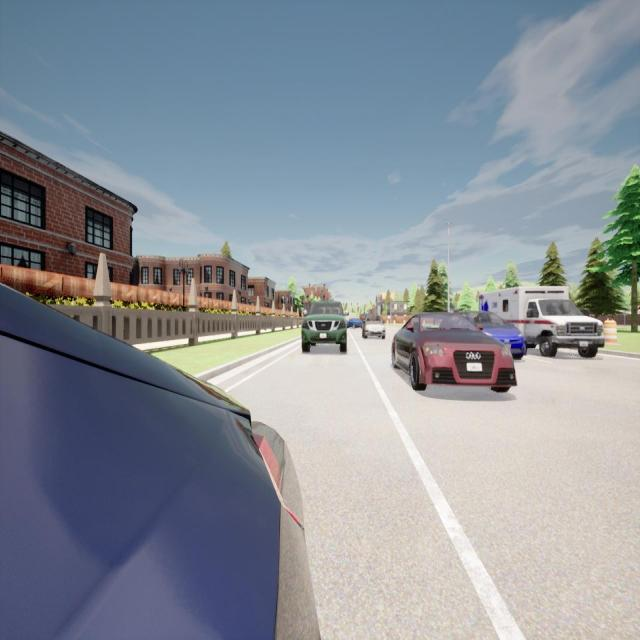Vehicle: (0, 268, 320, 639), (392, 305, 518, 411), (476, 287, 608, 360), (438, 312, 528, 359), (301, 299, 349, 354), (362, 311, 386, 343), (347, 317, 362, 330)
